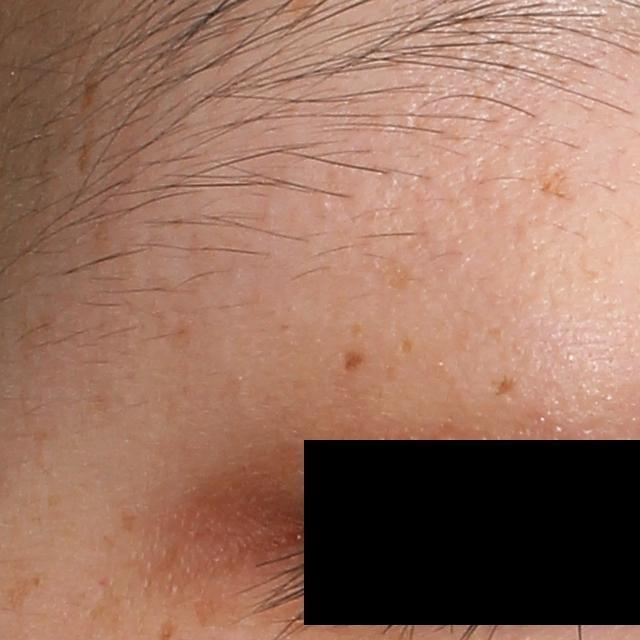melasma: (78, 68, 109, 182), (1, 561, 47, 624), (186, 591, 243, 634), (371, 250, 422, 295), (534, 167, 573, 200), (340, 348, 373, 377), (491, 373, 520, 400), (116, 506, 139, 538), (347, 320, 367, 342), (400, 334, 415, 360)
